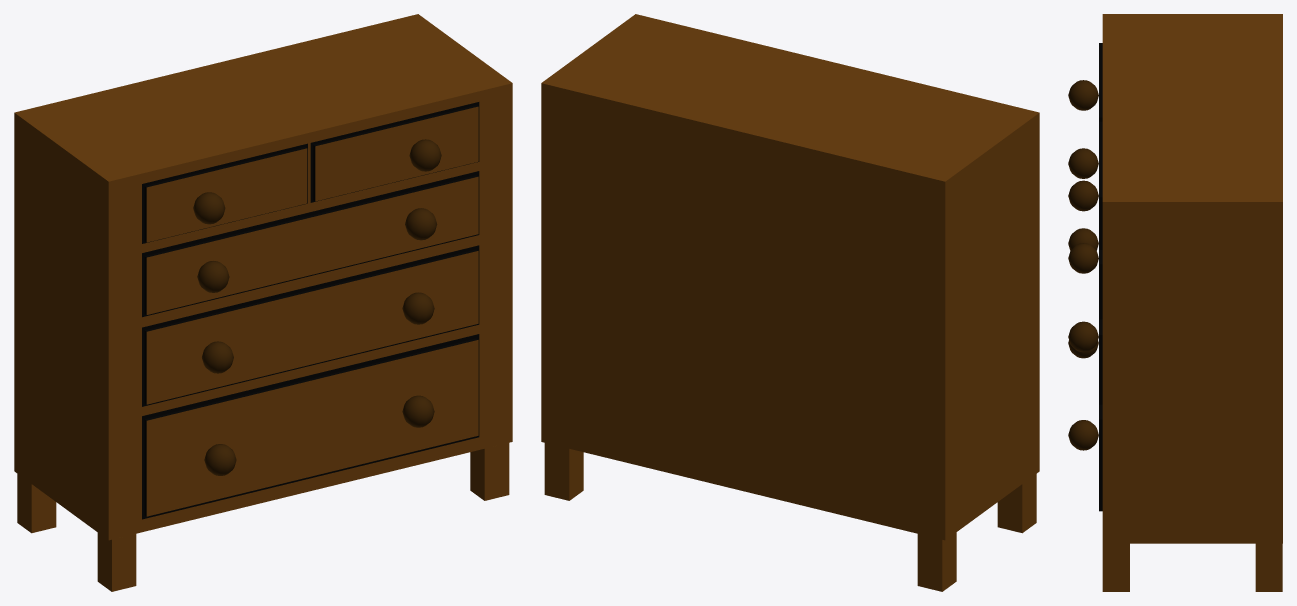
The model's file is Cabinet.fbx.
3 views of the same model, side by side, from view 1: azimuth 30°, elevation 25°; view 2: azimuth 150°, elevation 25°; view 3: azimuth 270°, elevation 25° (orthographic). The views are drawn at different scales.
Visible parts, largest first — view 1: Cube, Sphere.002, Sphere.006, Sphere.001, Sphere.003, Sphere.004, Sphere.005, Sphere, Sphere.007; view 2: Cube; view 3: Cube, Sphere.005, Sphere.001, Sphere.003, Sphere.007, Sphere.004, Sphere.002, Sphere.006.
Boxes of the visible parts, x1,y1,x2,y2 form: Cube: [14, 14, 512, 591]; Sphere.002: [402, 292, 434, 324]; Sphere.006: [202, 341, 233, 373]; Sphere.001: [402, 395, 434, 427]; Sphere.003: [405, 208, 437, 240]; Sphere.004: [409, 139, 441, 171]; Sphere.005: [193, 192, 225, 224]; Sphere: [204, 444, 236, 475]; Sphere.007: [197, 261, 229, 292]; Cube: [541, 14, 1039, 591]; Cube: [1099, 14, 1282, 591]; Sphere.005: [1068, 80, 1098, 110]; Sphere.001: [1068, 420, 1098, 450]; Sphere.003: [1068, 243, 1098, 273]; Sphere.007: [1068, 148, 1098, 178]; Sphere.004: [1068, 180, 1098, 211]; Sphere.002: [1068, 321, 1098, 352]; Sphere.006: [1068, 228, 1098, 250].
Size of the model in its own units: 169 by 164 by 81.52.
